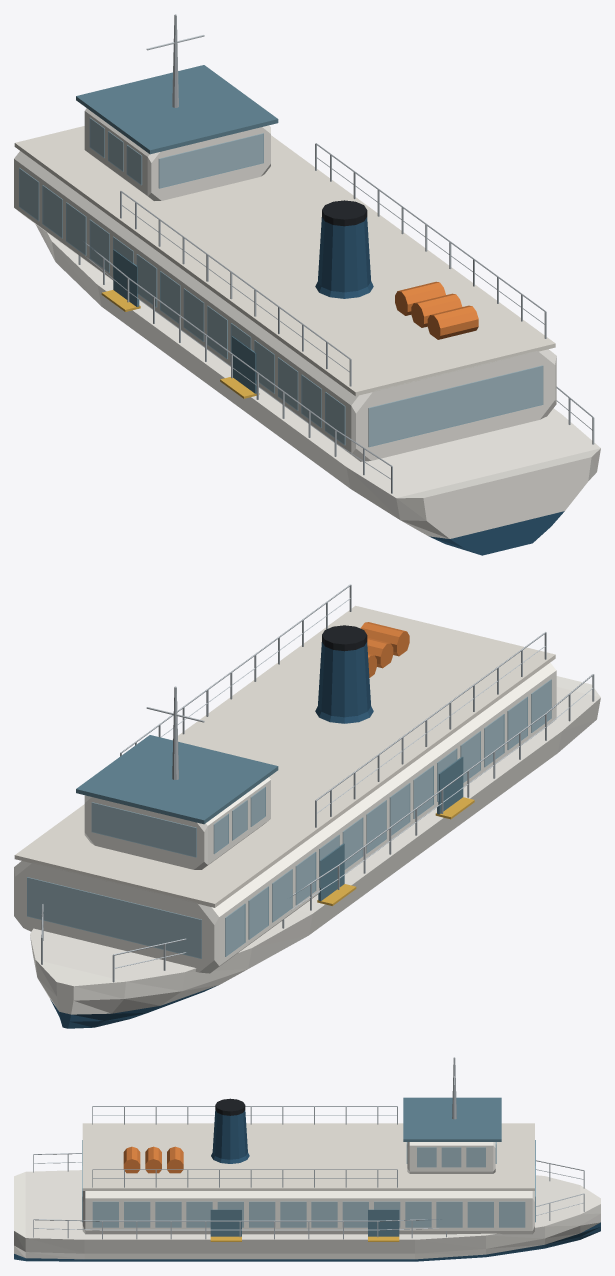
The model's file is BOAT_04.obj.
3 renders of one model, top to bottom at view 1: azimuth 30°, elevation 25°; view 2: azimuth 150°, elevation 25°; view 3: azimuth 270°, elevation 25°, orthographic. The views are drawn at different scales.
Parts seen in each view (by area): view 1: cabin_roof, passenger_cabin, hull_upper, windows, wheelhouse_roof, wheelhouse, funnel, upper_rail, life_rafts, hull_lower, railings, boarding_doors (+1 smaller); view 2: cabin_roof, passenger_cabin, windows, hull_upper, wheelhouse_roof, wheelhouse, funnel, upper_rail, railings, boarding_doors, life_rafts, hull_lower (+2 smaller); view 3: cabin_roof, hull_upper, passenger_cabin, windows, wheelhouse_roof, wheelhouse, railings, funnel, hull_lower, boarding_doors, upper_rail, life_rafts (+1 smaller).
Boxes of the visible parts, <box> form: cabin_roof: <box>14,126,555,396</box>; passenger_cabin: <box>14,151,556,461</box>; hull_upper: <box>35,224,600,538</box>; windows: <box>19,117,543,447</box>; wheelhouse_roof: <box>76,65,278,154</box>; wheelhouse: <box>84,108,270,200</box>; funnel: <box>315,200,373,298</box>; upper_rail: <box>120,143,546,386</box>; life_rafts: <box>395,281,478,339</box>; hull_lower: <box>429,511,564,555</box>; railings: <box>78,242,594,493</box>; boarding_doors: <box>113,249,256,393</box>; cabin_roof: <box>14,605,555,907</box>; passenger_cabin: <box>14,662,556,973</box>; windows: <box>27,679,551,958</box>; hull_upper: <box>30,676,600,1014</box>; wheelhouse_roof: <box>76,735,278,824</box>; wheelhouse: <box>84,777,270,869</box>; funnel: <box>315,625,373,723</box>; upper_rail: <box>120,584,546,827</box>; railings: <box>41,674,594,982</box>; boarding_doors: <box>318,756,463,900</box>; life_rafts: <box>360,622,409,677</box>; hull_lower: <box>50,985,218,1028</box>; cabin_roof: <box>82,1123,534,1190</box>; hull_upper: <box>14,1170,600,1259</box>; passenger_cabin: <box>82,1191,534,1234</box>; windows: <box>82,1140,535,1227</box>; wheelhouse_roof: <box>403,1097,501,1141</box>; wheelhouse: <box>407,1142,495,1173</box>; railings: <box>33,1153,584,1239</box>; funnel: <box>211,1098,249,1163</box>; hull_lower: <box>14,1222,600,1261</box>; boarding_doors: <box>210,1209,399,1236</box>; upper_rail: <box>92,1106,397,1187</box>; life_rafts: <box>123,1146,183,1173</box>.
Size of the model in its own units: 9 by 10.88 by 29.85.
